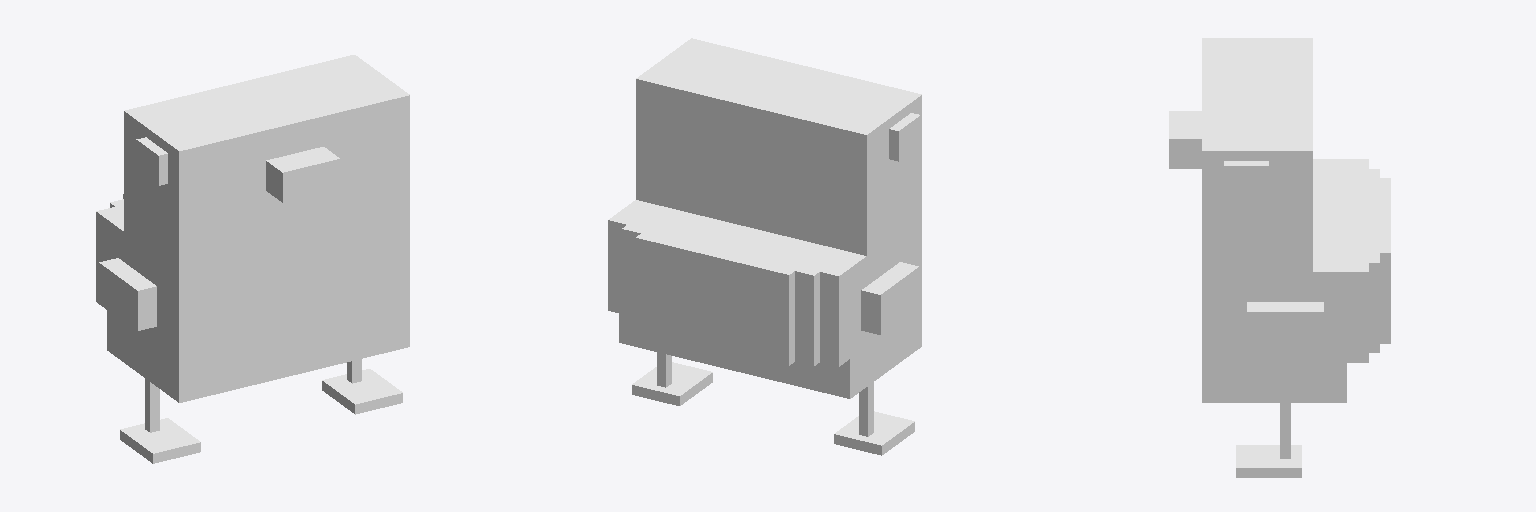
File: mallard.obj
The picture shows the model from 3 angles: view 1: azimuth 30°, elevation 25°; view 2: azimuth 150°, elevation 25°; view 3: azimuth 270°, elevation 25°; orthographic projection.
Visible parts, largest first — view 1: object 1; view 2: object 1; view 3: object 1.
Part boxes in pixels (x1,y1,x2,y2): object 1: (96,55,409,463); object 1: (608,38,921,455); object 1: (1169,38,1390,477).
Size of the model in its own units: 2.8 by 3.2 by 2.